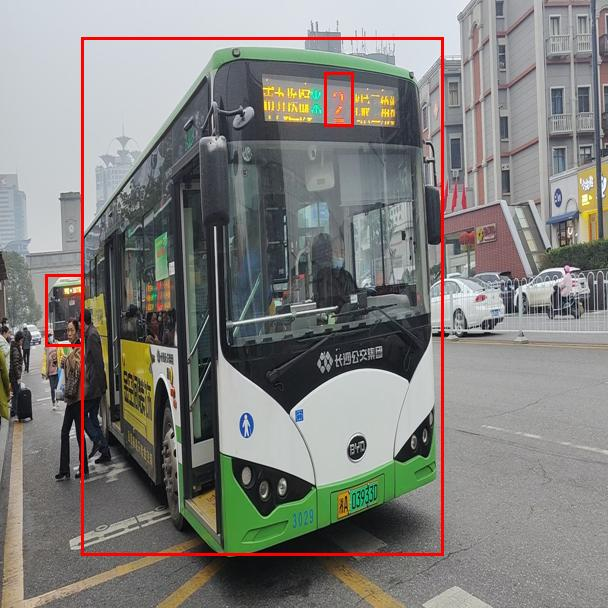bus: (81, 37, 443, 555), (45, 274, 83, 346)
screen: (324, 72, 353, 126)
